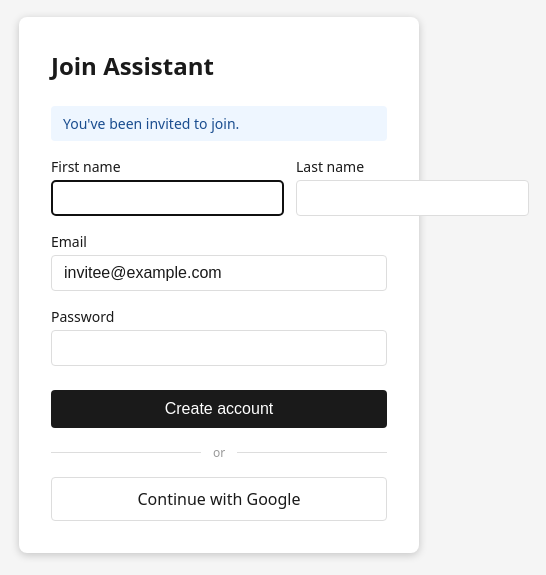
Test: AcceptInvitePage › submits through register with the invite id and pre-filled email
Check: the field labelled "Email" is shown, box [51,255,387,291]
In the field labelled "First name": x=168, y=198 [51,180,284,216], type "Alice"
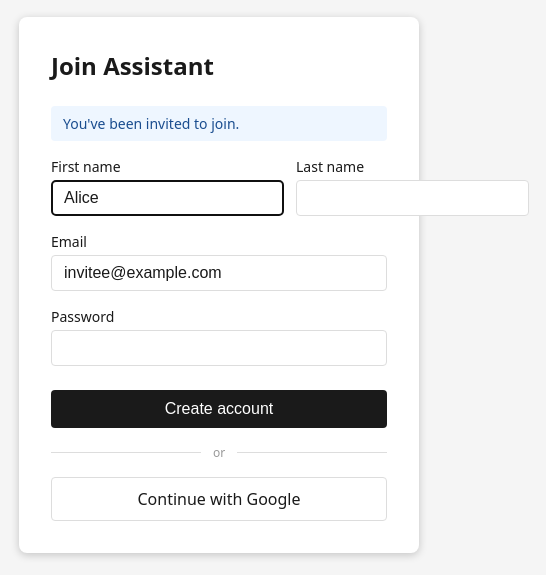
In the field labelled "Last name": x=412, y=198 [296,180,529,216], type "Smith"
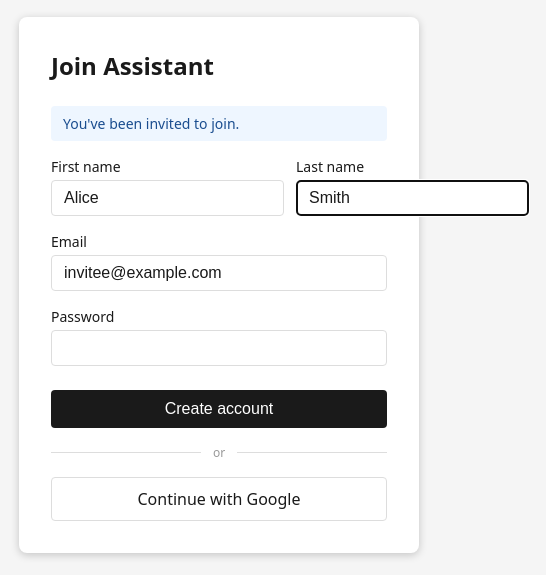
In the password field labelled "Password": x=219, y=348 [51,330,387,366], type "password1"
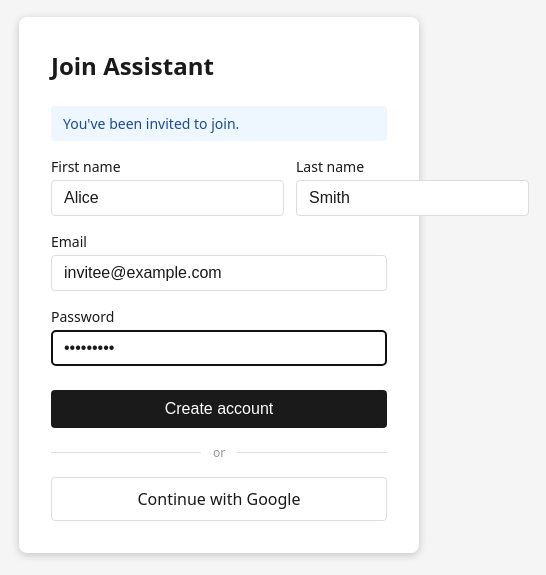
Click the button "Create account": x=219, y=409 [51,390,387,428]
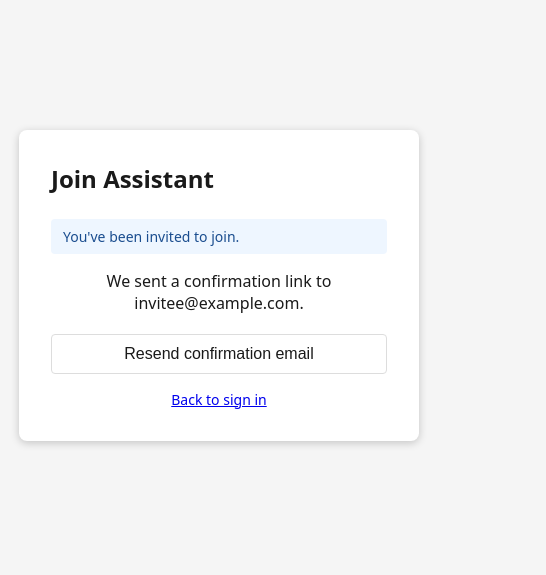
Check: the text "We sent a confirmation link to invitee@example.com." is shown, box [107,270,331,314]
